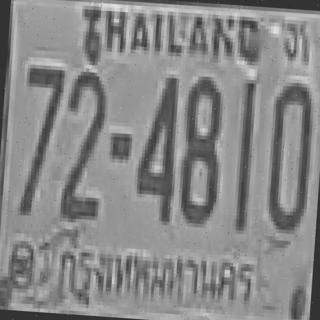N00: (264, 78, 314, 231)
N01: (233, 77, 255, 210)
N02: (61, 69, 107, 200)
N04: (132, 72, 180, 222)
N07: (16, 66, 64, 208), (18, 64, 64, 184), (20, 64, 64, 155)
N08: (174, 73, 222, 223)
P04: (52, 240, 259, 320)
